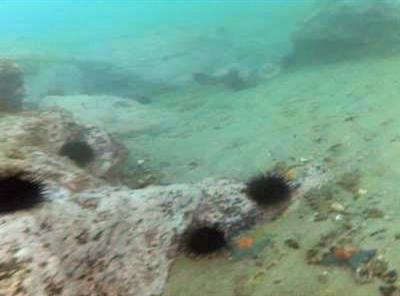urchin: (0, 167, 49, 213), (242, 171, 294, 207), (184, 222, 227, 255), (58, 139, 97, 167)
